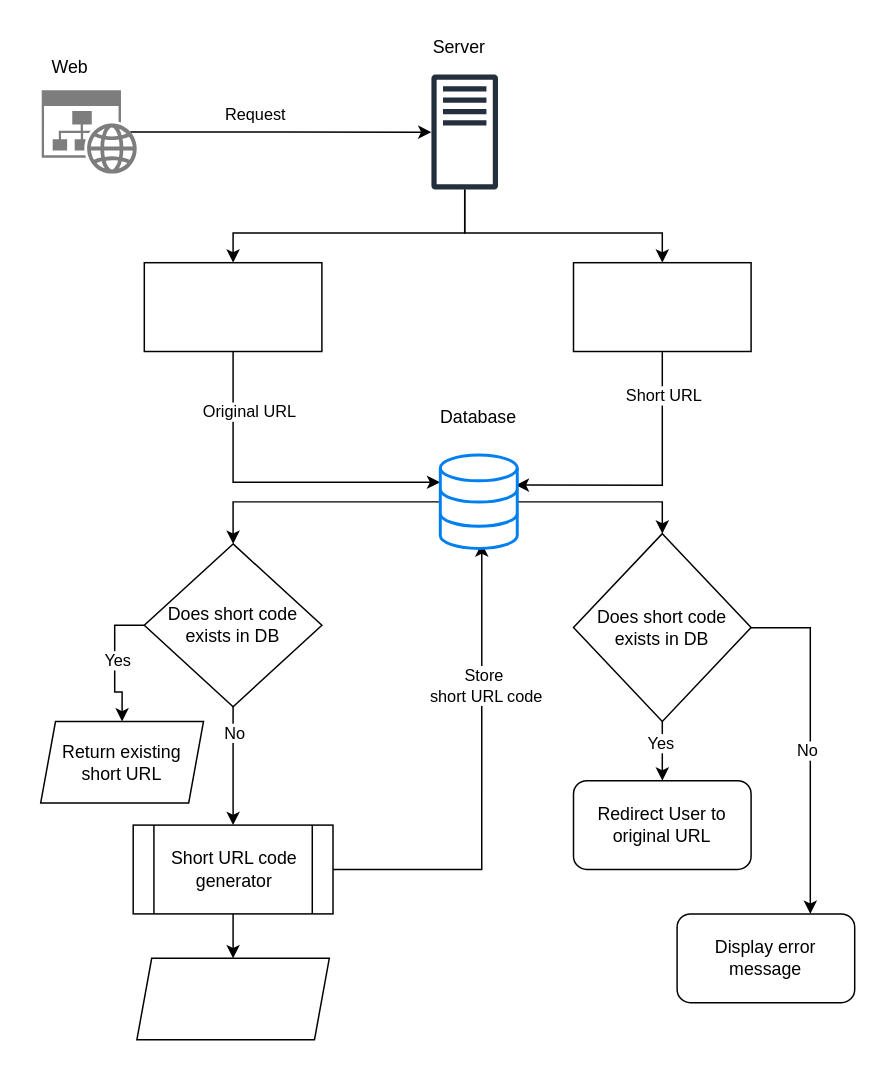
Image size: 881x1066. Some labels were removed from this diagram. The shapes that lost their labels are listed below. From the top down, each one's centre as x and y in pixels, then its label:
(x=232, y=306): Shortening Request
(x=661, y=306): Redirect Request
(x=232, y=998): Return short URL
